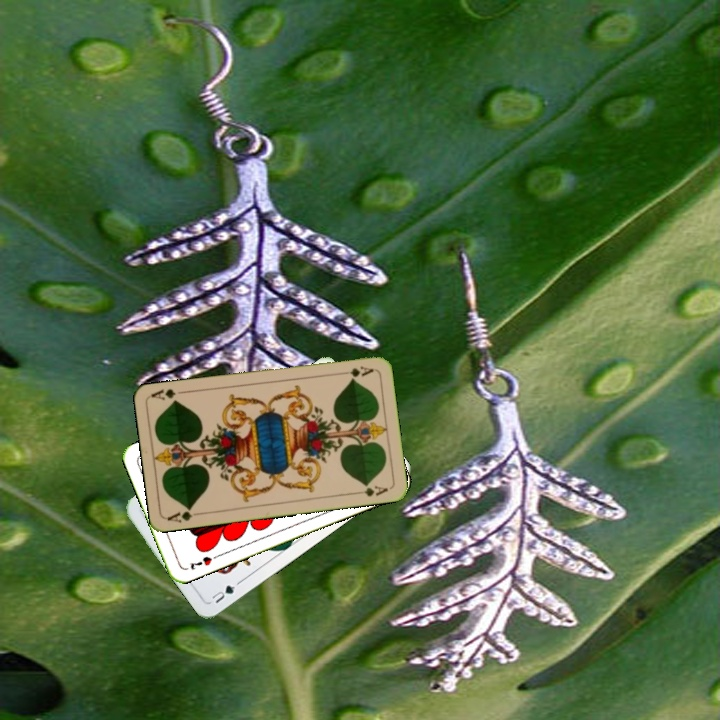GA: (164, 503, 205, 525), (336, 362, 376, 381)
GU: (208, 581, 238, 606)
H7: (185, 552, 215, 573)
